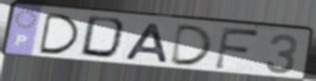3: (265, 32, 300, 75)
A: (120, 22, 170, 65)
D: (78, 14, 132, 62), (167, 23, 216, 68), (38, 11, 82, 56)
F: (213, 25, 262, 72)
